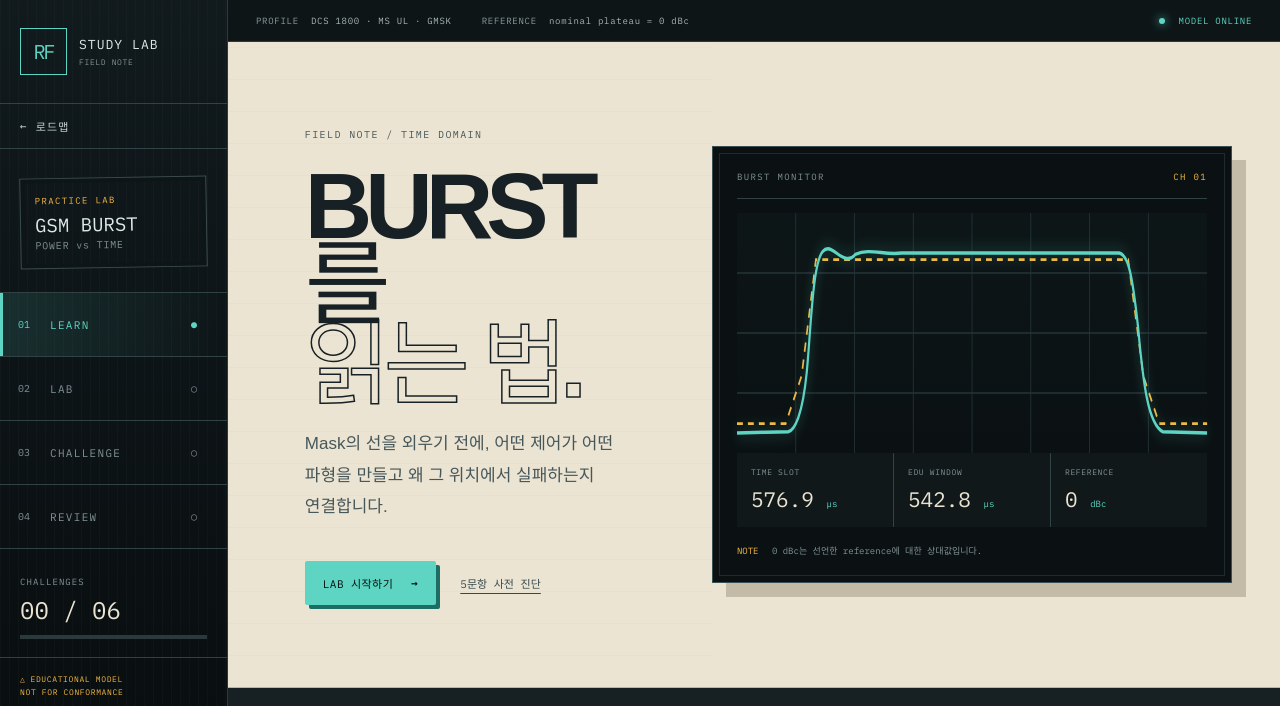
Test: RF Study Lab roadmap home › links from the module shell back to the roadmap
The width and height of the screenshot is (1280, 706).
Click the link "← 로드맵" at (114, 126), box [0,104,227,149]
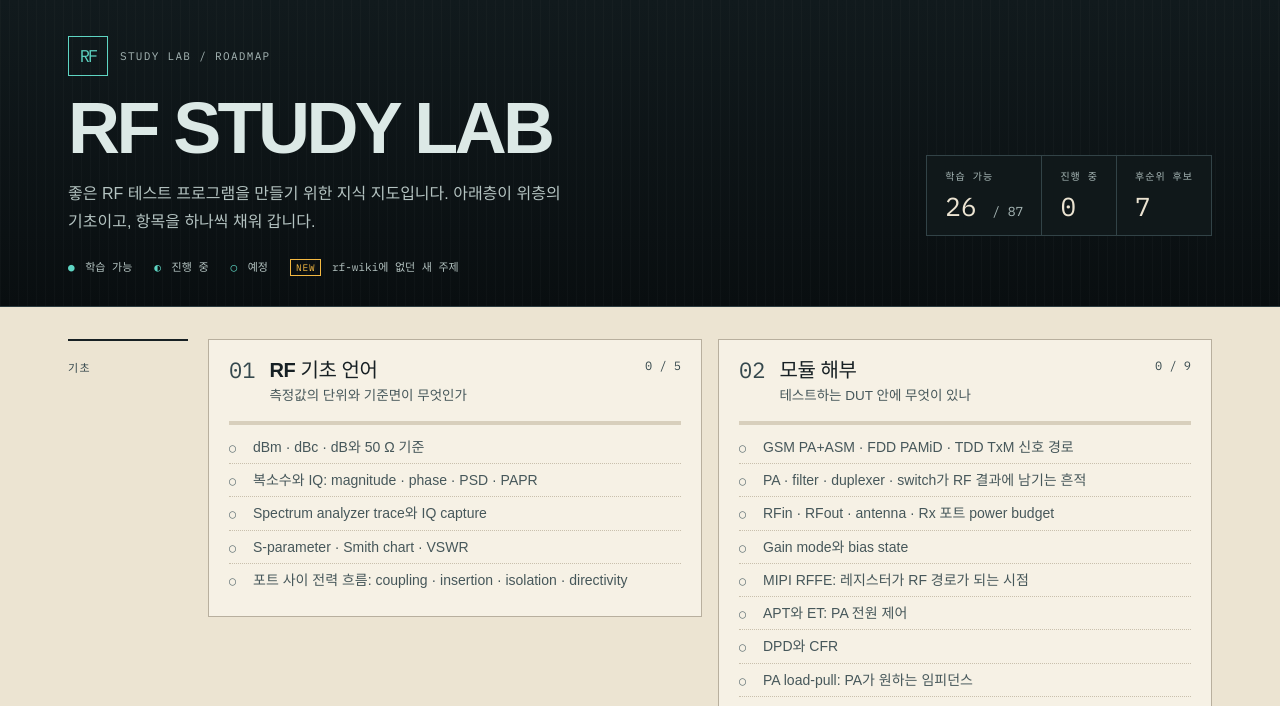
Check: the heading "RF Study Lab" is shown, box [68,88,552,168]
